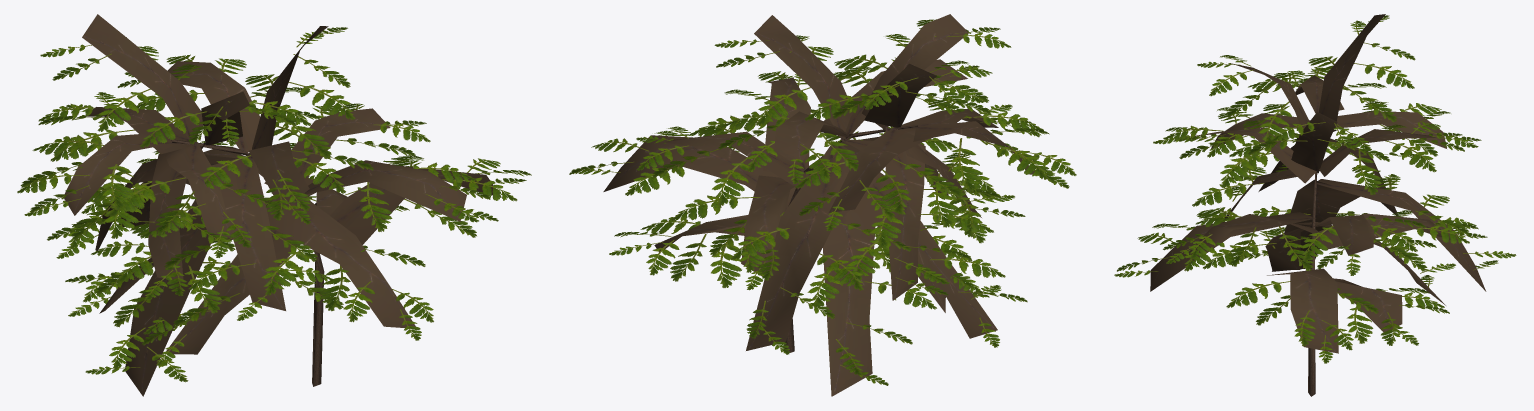
Rendered from forest_Bush1_LOD1.fbx.
3 renders of one model, left to right at view 1: azimuth 30°, elevation 25°; view 2: azimuth 150°, elevation 25°; view 3: azimuth 270°, elevation 25°, orthographic. The views are drawn at different scales.
Parts seen in each view (by area): view 1: StaticMeshActor_22_StaticMeshComponent0.001; view 2: StaticMeshActor_22_StaticMeshComponent0.001; view 3: StaticMeshActor_22_StaticMeshComponent0.001.
Part boxes in pixels (x1,y1,x2,y2): StaticMeshActor_22_StaticMeshComponent0.001: (17, 14, 531, 396); StaticMeshActor_22_StaticMeshComponent0.001: (569, 14, 1076, 396); StaticMeshActor_22_StaticMeshComponent0.001: (1114, 14, 1516, 396).
Bounding box in the file's own units: 5.47 × 3.85 × 4.56.
